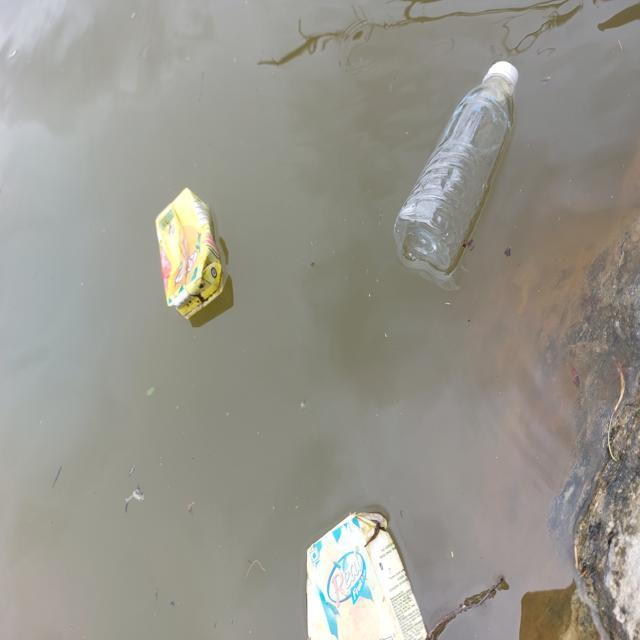paper: (300, 506, 452, 640), (134, 189, 250, 339)
waterbottle: (391, 49, 536, 299)
